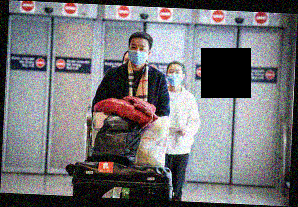with_mask: (127, 42, 149, 67), (166, 67, 183, 89)
